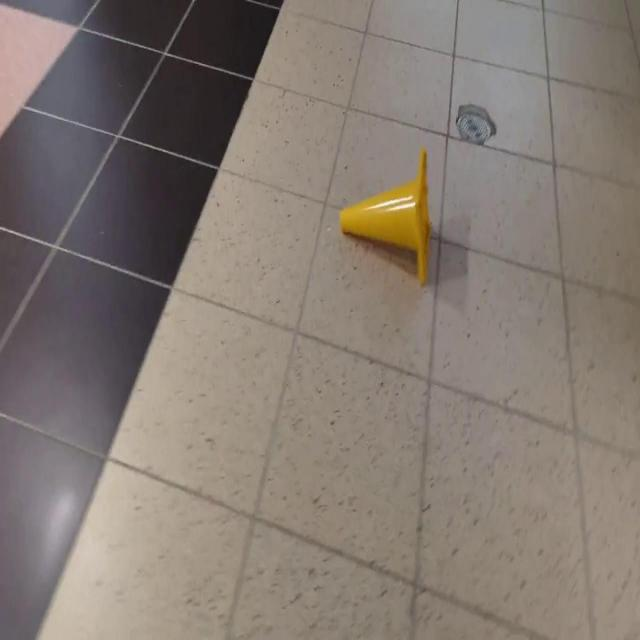frc_cone: (339, 150, 431, 287)
